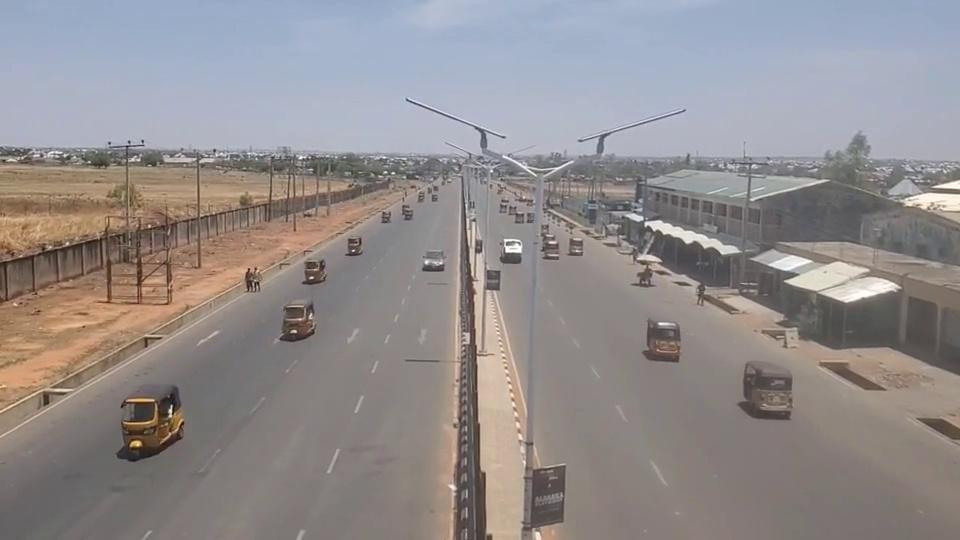keke: (119, 382, 185, 458), (741, 359, 793, 418), (646, 318, 681, 361)
